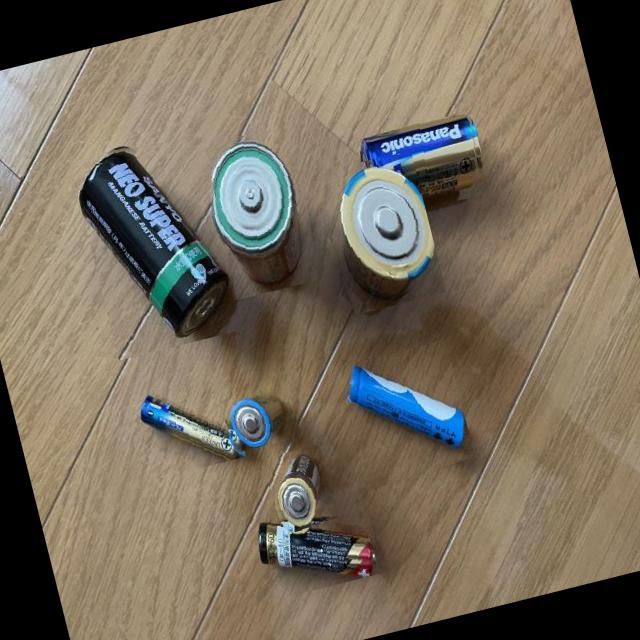Hazard: (68, 123, 251, 360), (195, 119, 332, 301), (307, 148, 446, 318), (334, 339, 476, 492), (351, 94, 492, 220), (244, 488, 384, 602), (132, 370, 248, 479), (260, 444, 338, 536), (218, 384, 300, 454)
